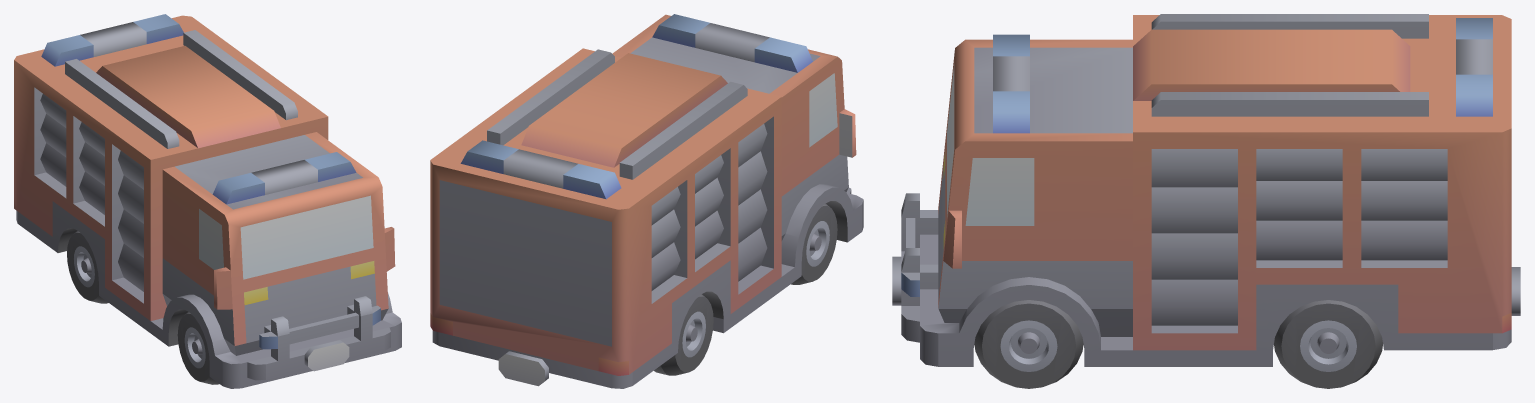
File: firetruck.glb
3 renders of one model, left to right at view 1: azimuth 30°, elevation 25°; view 2: azimuth 150°, elevation 25°; view 3: azimuth 270°, elevation 25°, orthographic. The views are drawn at different scales.
Parts seen in each view (by area): view 1: firetruck; view 2: firetruck; view 3: firetruck.
Part boxes in pixels (x1,y1,x2,y2): firetruck: (14,14,401,388); firetruck: (430,14,863,388); firetruck: (892,14,1520,388).
Bounding box in the file's own units: 1.5 × 1.7 × 3.4.
